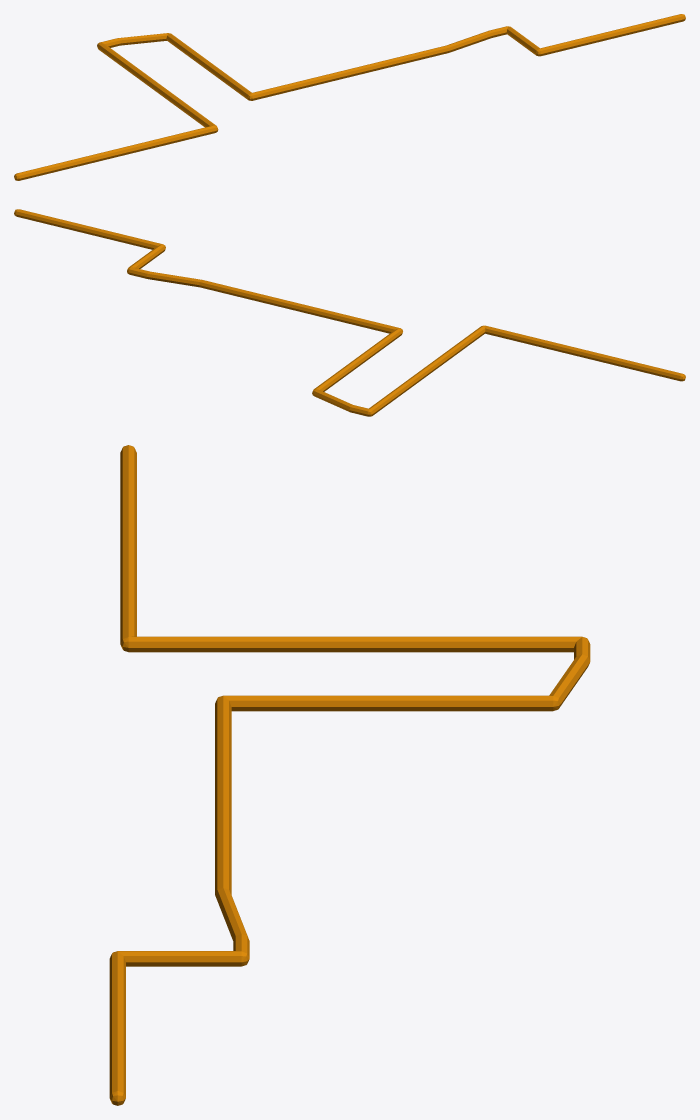
3 views of the same model, one above another, from view 1: azimuth 30°, elevation 25°; view 2: azimuth 150°, elevation 25°; view 3: azimuth 270°, elevation 25° (orthographic). The views are drawn at different scales.
Size of the model in its own units: 1872 by 20 by 583.
